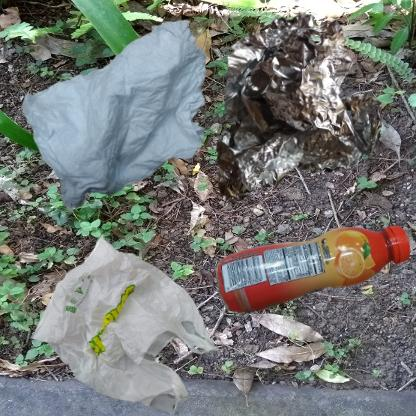aluminio: (213, 10, 385, 206)
bolsa: (10, 213, 240, 416)
botella: (213, 213, 416, 328)
papel: (10, 10, 275, 242)
